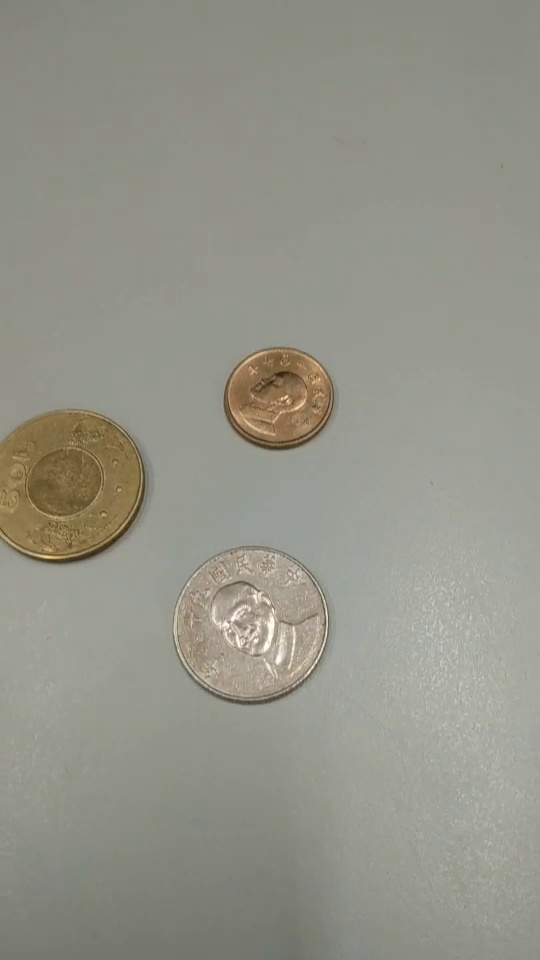NT$ 1: (220, 349, 334, 452)
NT$ 10: (171, 546, 328, 704)
NT$ 50: (1, 408, 144, 564)
